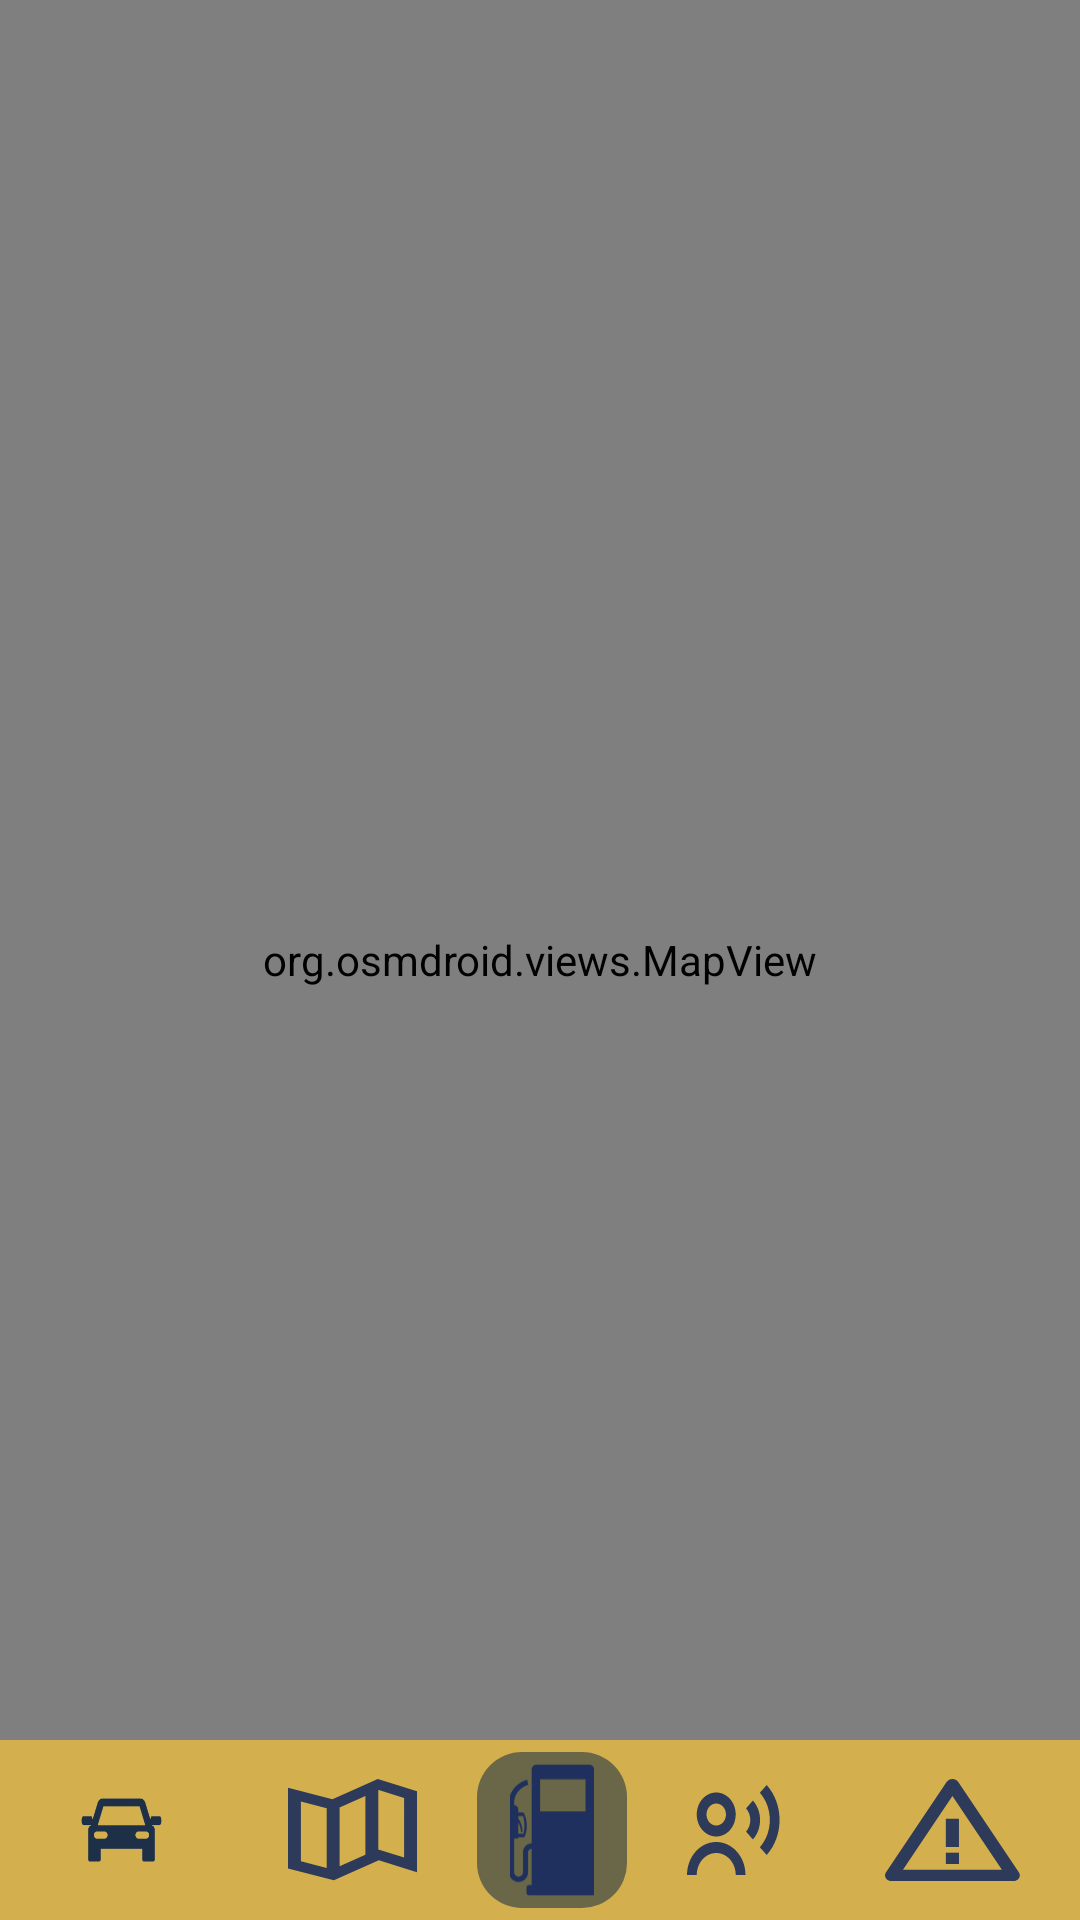

Icon click points for this 1080 x 1920 phone screenshot, format point (x, y):
gasdarkblue: point (552, 1829)
map: point (352, 1830)
warning: point (952, 1830)
